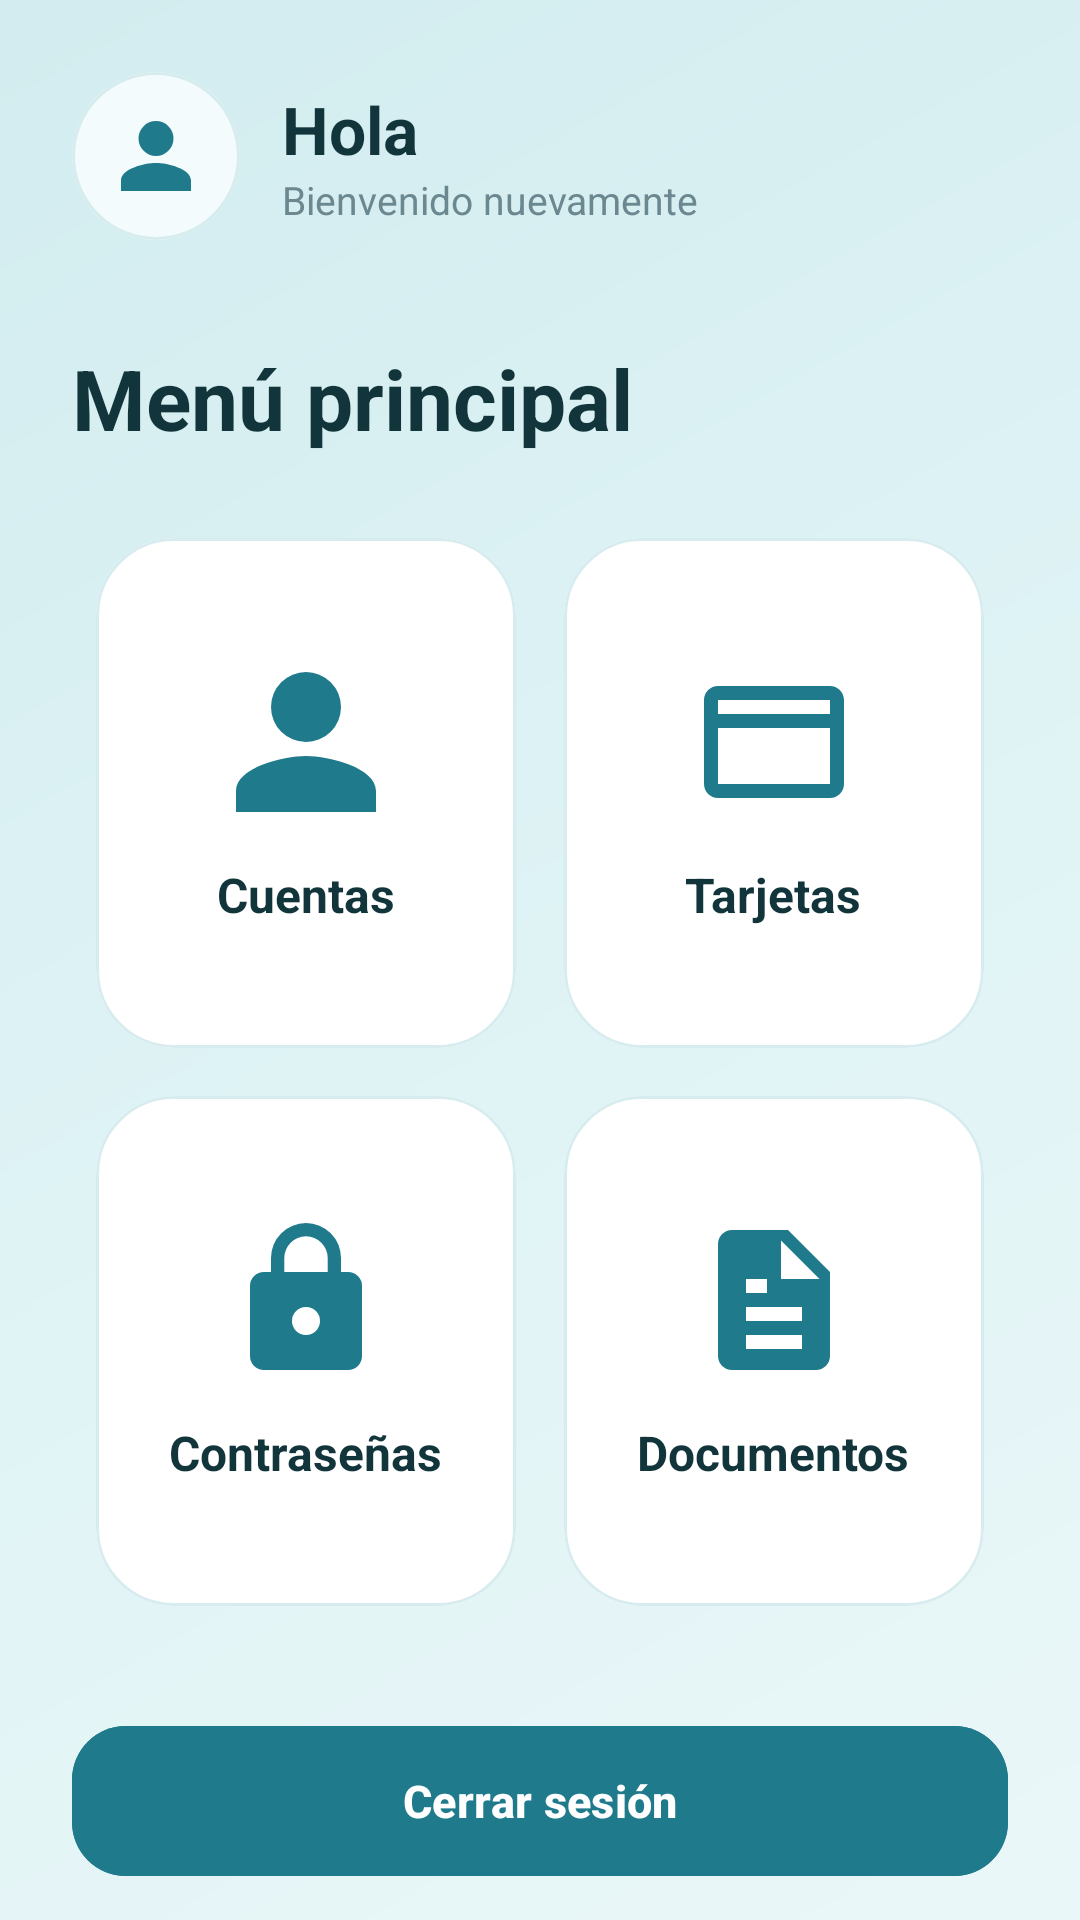

Where to tap for icons on this 1080 × 1920 app screen, as (x=x, y=y):
credit card: (x=774, y=742)
lock: (x=306, y=1296)
user: (x=156, y=156), (x=306, y=742)
